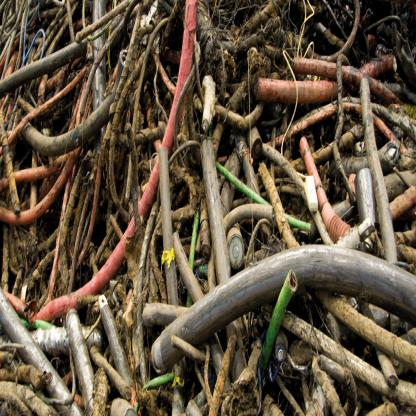wires: (1, 2, 416, 414)
